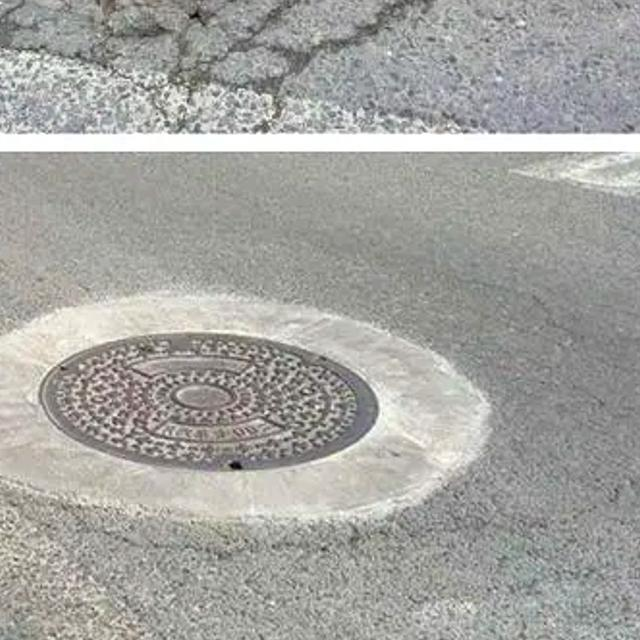circle: (0, 0, 461, 63)
